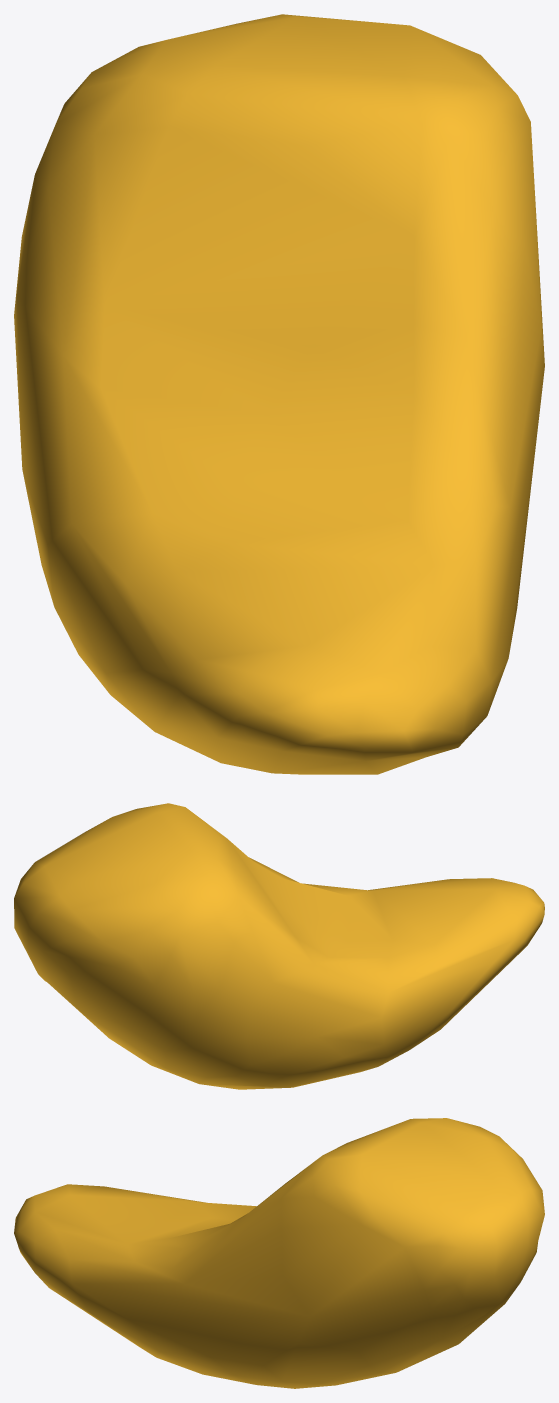
Rendered from nervoso-lateral-geniculate-body-r.glb.
3 views of the same model, one above another, from view 1: azimuth 30°, elevation 25°; view 2: azimuth 150°, elevation 25°; view 3: azimuth 270°, elevation 25° (orthographic). The views are drawn at different scales.
Visible parts, largest first — view 1: Lateral geniculate body.r; view 2: Lateral geniculate body.r; view 3: Lateral geniculate body.r.
Part boxes in pixels (left/top/right/bottom): Lateral geniculate body.r: left=14, top=14, right=544, bottom=774; Lateral geniculate body.r: left=14, top=803, right=544, bottom=1089; Lateral geniculate body.r: left=14, top=1118, right=544, bottom=1388.
Bounding box in the file's own units: 0.00822 × 0.0062 × 0.0114.
